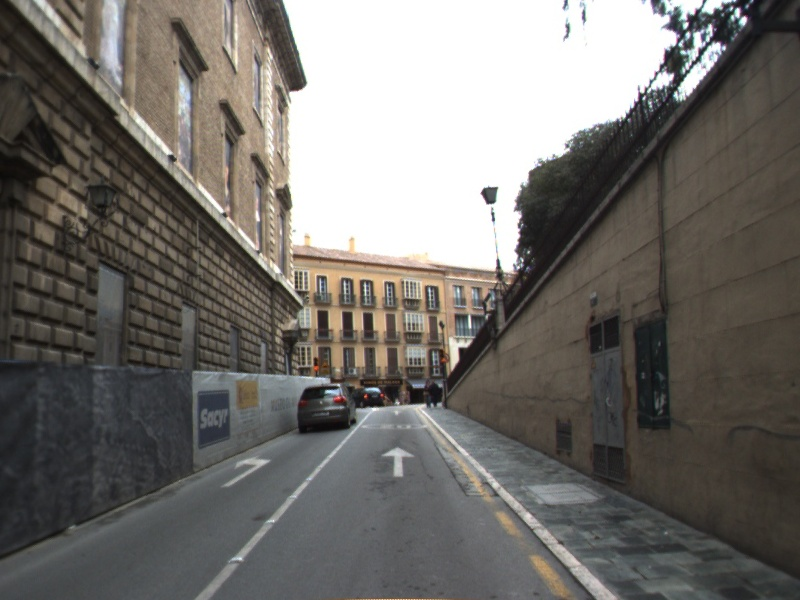LEFT: (218, 453, 273, 489)
STRAIGHT: (379, 444, 418, 479)
